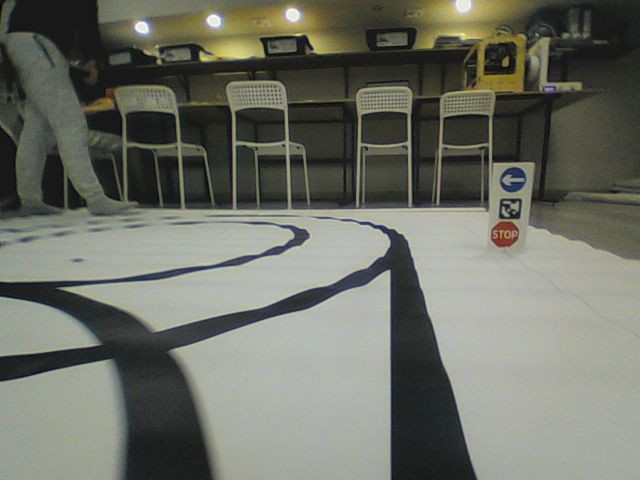Stop: (490, 221, 520, 248)
